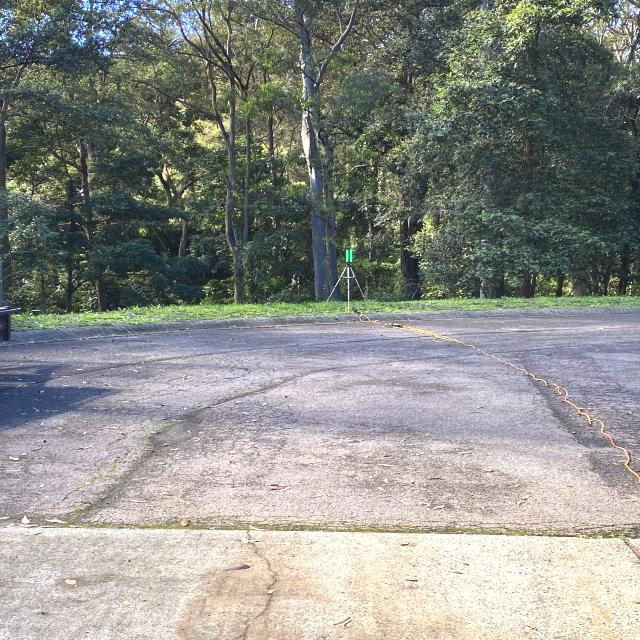matrix: (346, 250, 354, 262)
